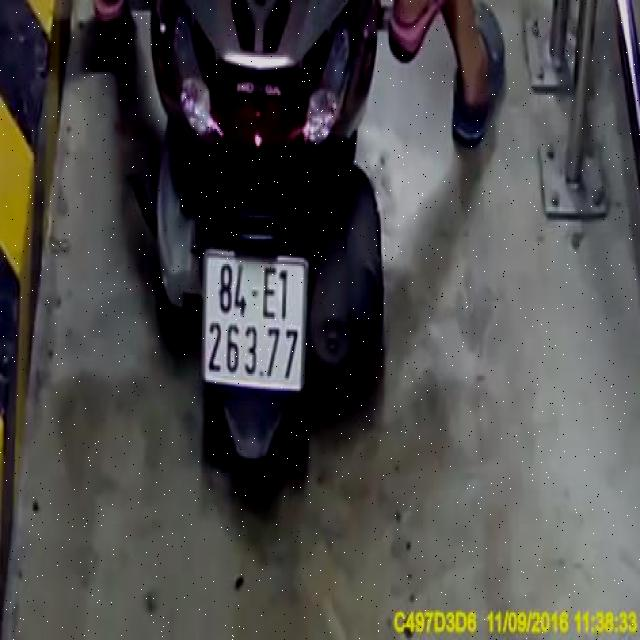1: (278, 268, 290, 323)
2: (207, 316, 224, 378)
3: (246, 324, 258, 377)
4: (234, 262, 245, 320)
6: (226, 322, 242, 375)
7: (284, 324, 301, 379), (266, 329, 280, 375)
8: (218, 262, 232, 310)
E: (263, 266, 279, 320)
